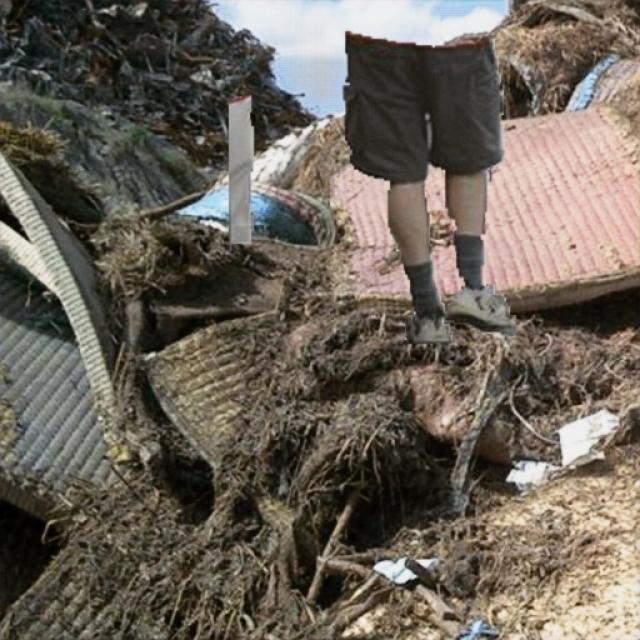Person in Rubble: (229, 31, 515, 342)
